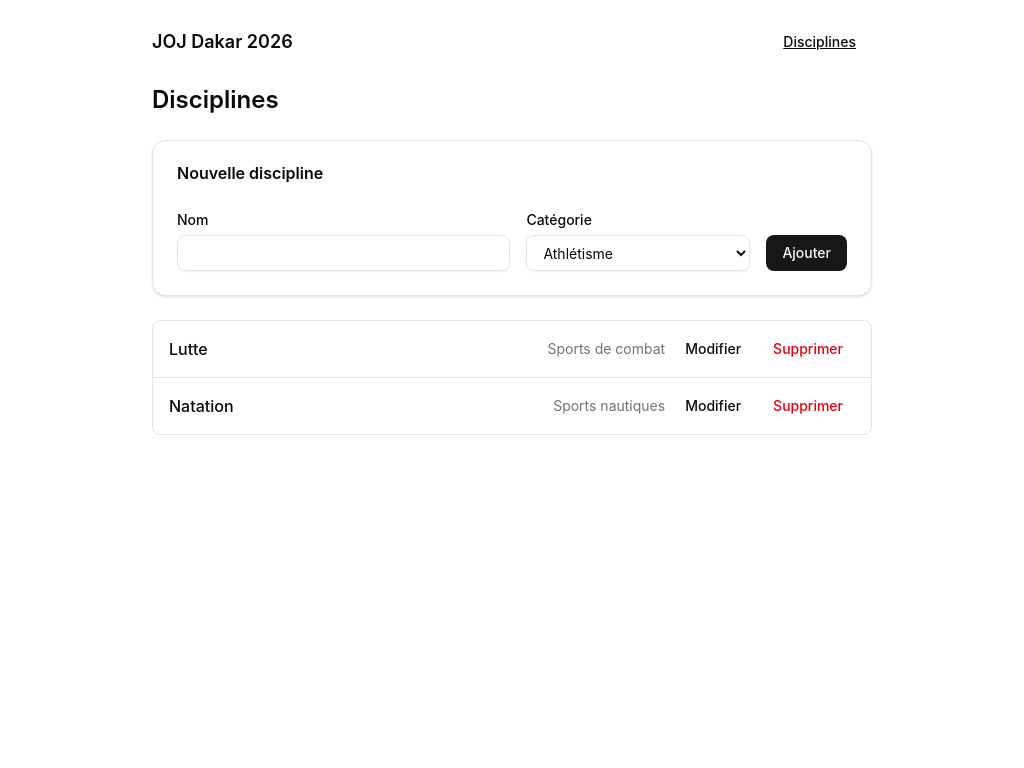
Test: DisciplinesPage › AS10: keeps the discipline when the deletion is cancelled
Click the button with aria-label "Supprimer Lutte" at (808, 349), box [761, 333, 855, 365]
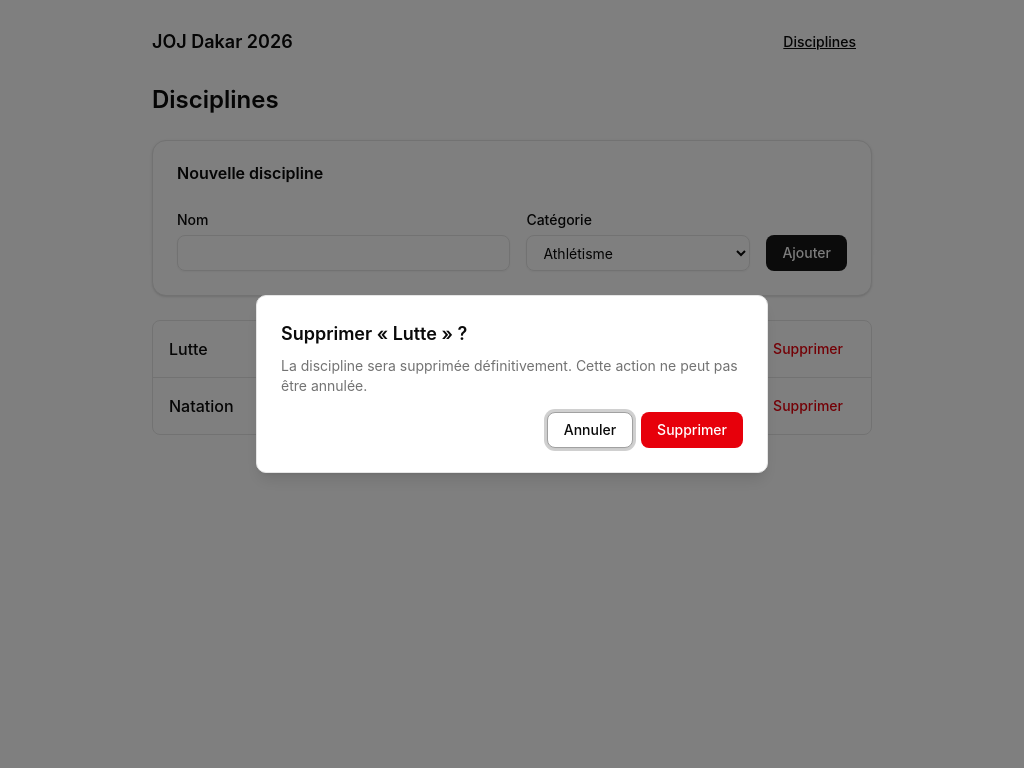
Click the button "Annuler" at (590, 430), box [547, 412, 633, 448]
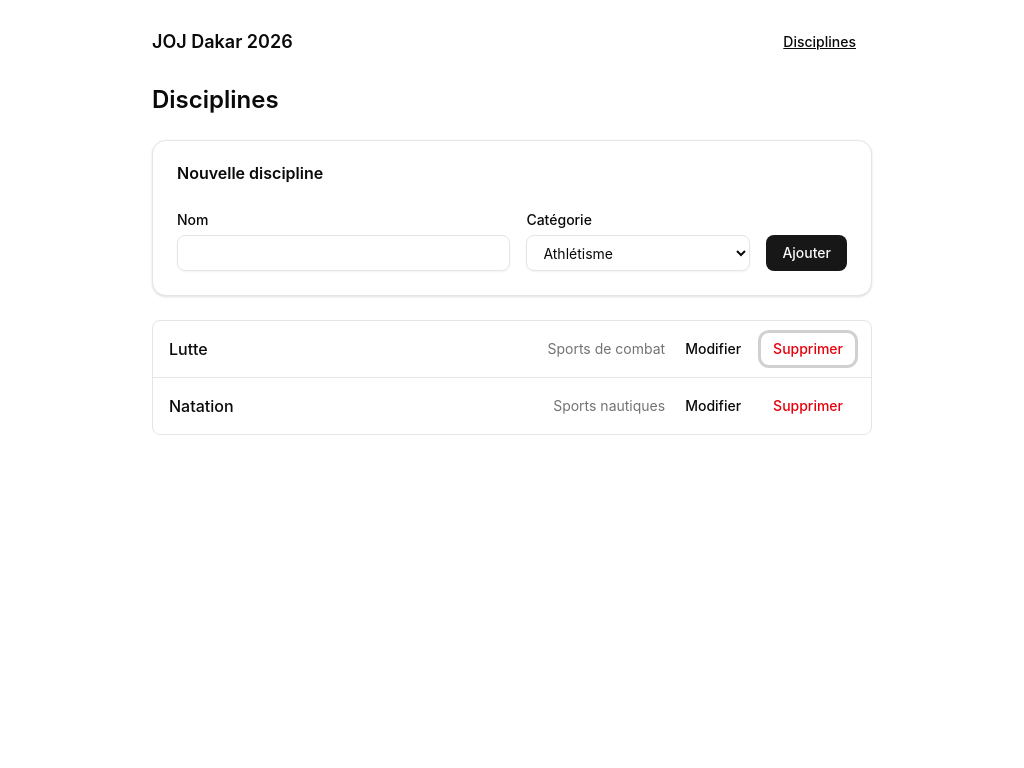
Expected: the list item "Lutte" is shown, [153, 321, 871, 378]
Expected: the dialog is gone
